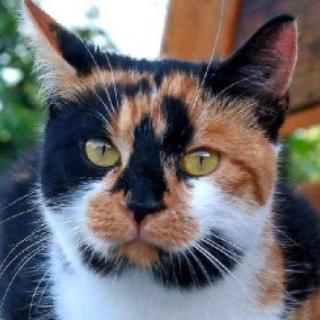cat: (21, 0, 303, 294)
nose: (118, 168, 167, 237)
